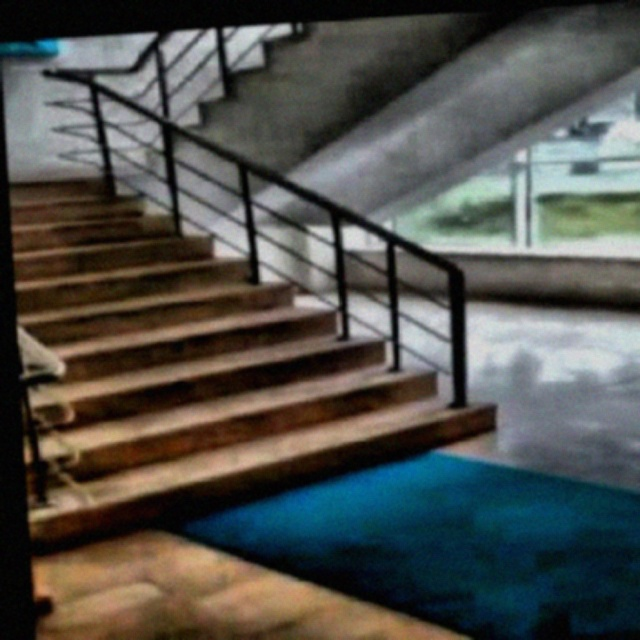stair: (8, 125, 504, 512)
